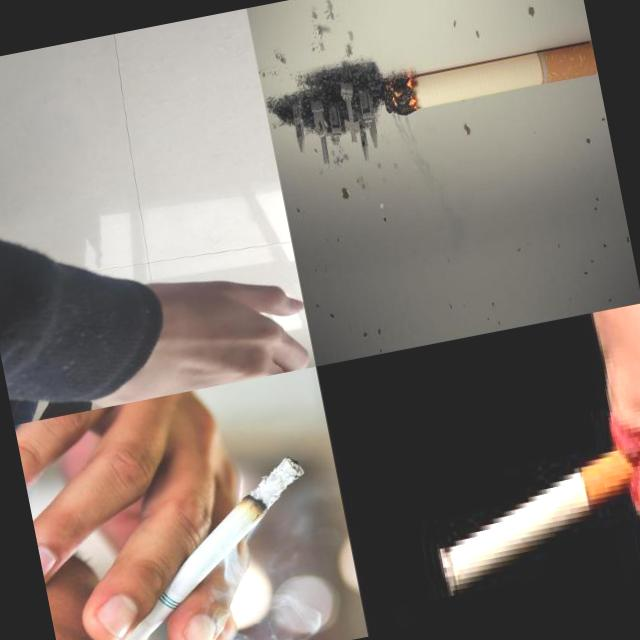smoke: (85, 452, 331, 640), (424, 440, 640, 597), (382, 43, 598, 116)
